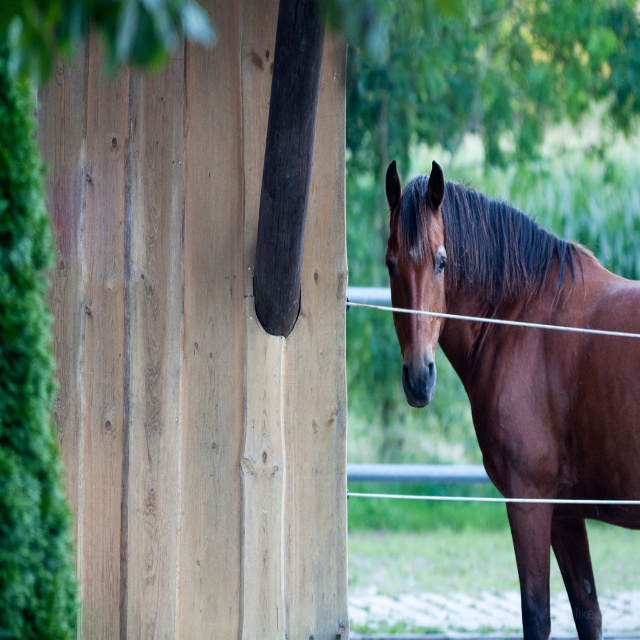Horse: (384, 159, 638, 639)
